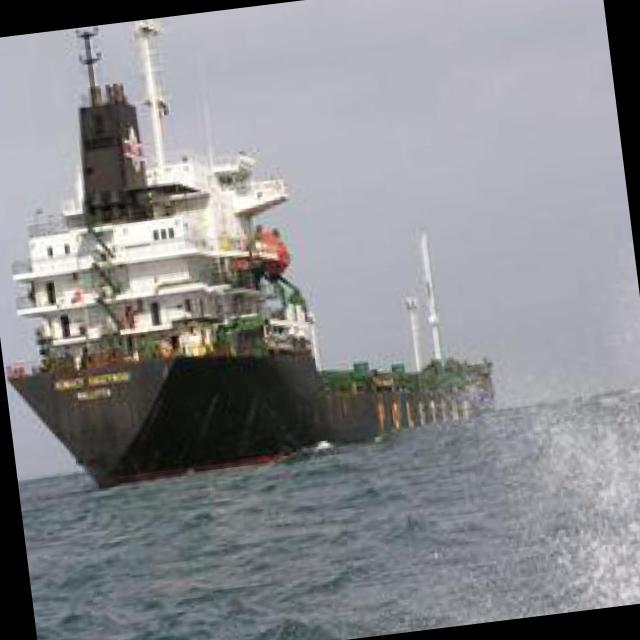boat: (0, 39, 518, 477)
